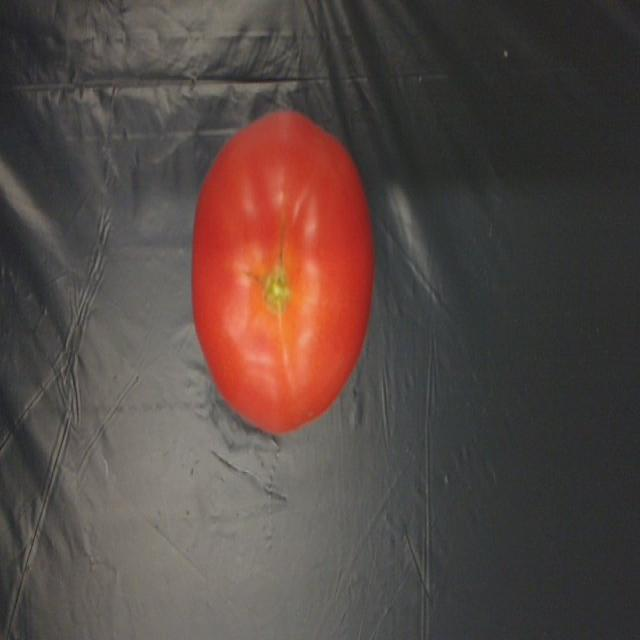kirmizi: (189, 103, 380, 425)
